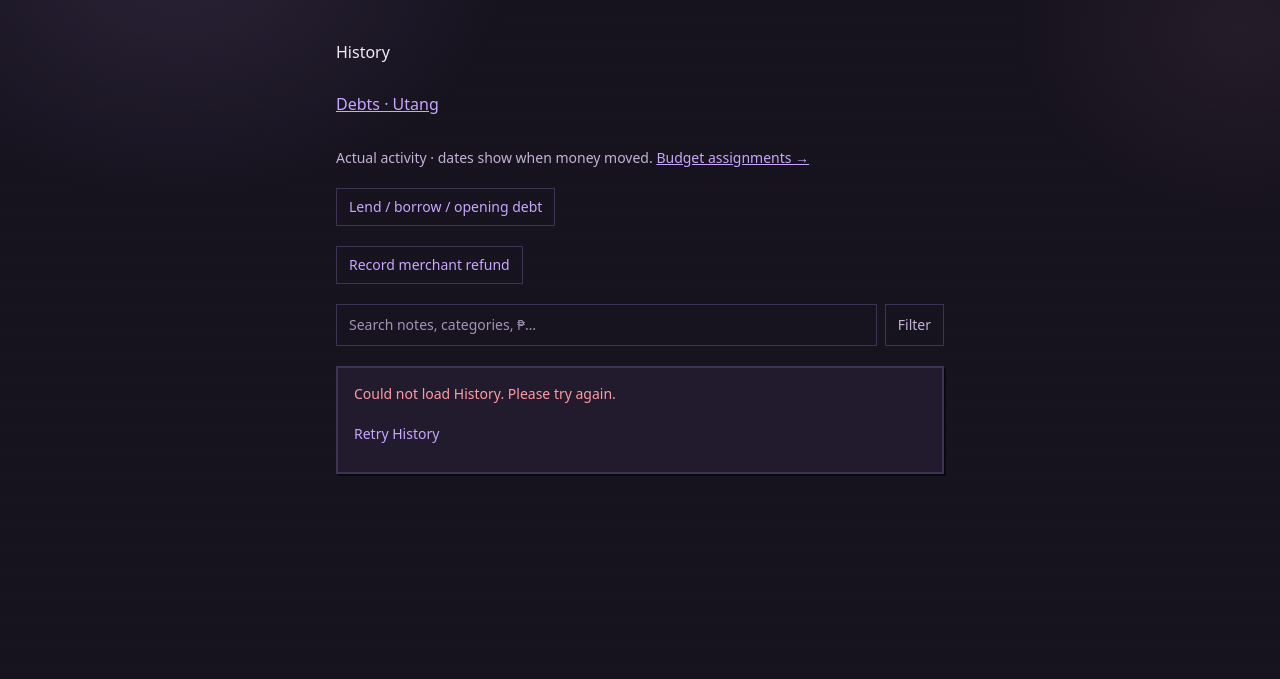
Test case: shows a safe load error and retries instead of remaining in loading forever
Expected: the message shows "Could not load History. Please try again.", [354,384,616,403]
Click the button "Retry History".
click(397, 434)  # box [354,412,439,456]
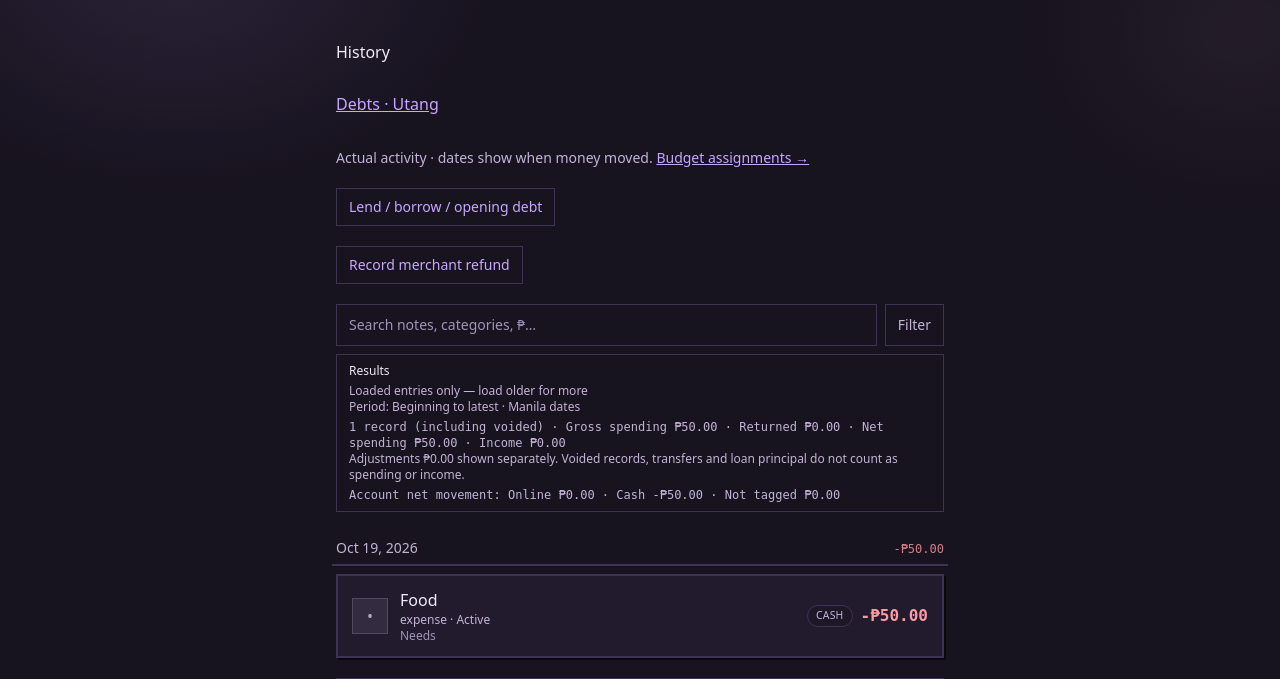
Result: the element "Results" is shown at [336,354,944,512]
Result: the message "Could not load History. Please try again. Retry History" is gone
